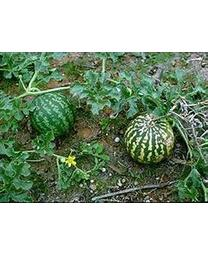watermelon: (124, 112, 176, 165), (28, 91, 75, 141)
